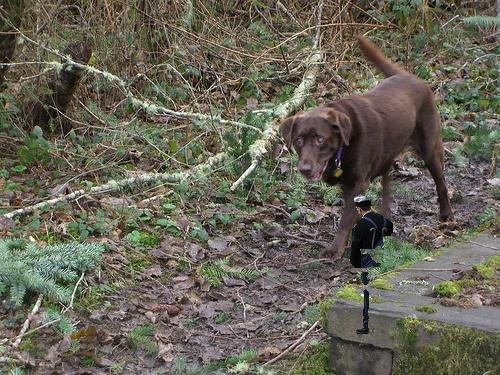tampered: (351, 195, 393, 334)
